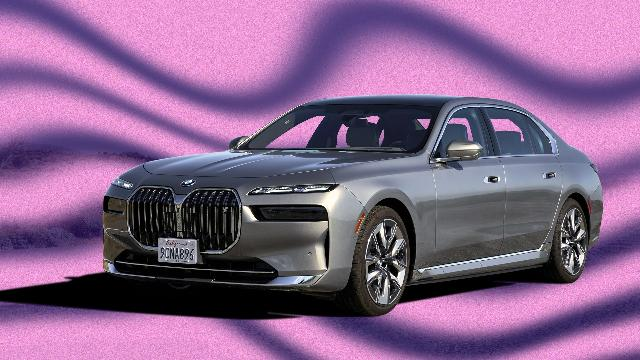bmw: (101, 94, 604, 316)
